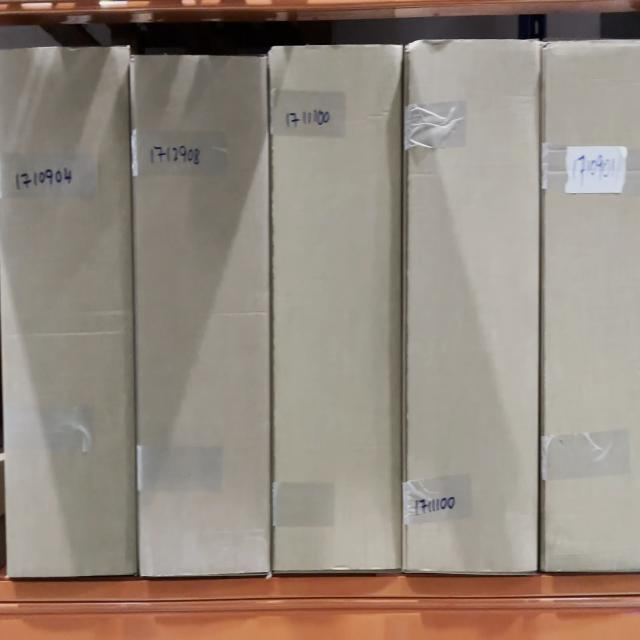box: (136, 62, 267, 577), (409, 47, 537, 571), (275, 47, 400, 569)
